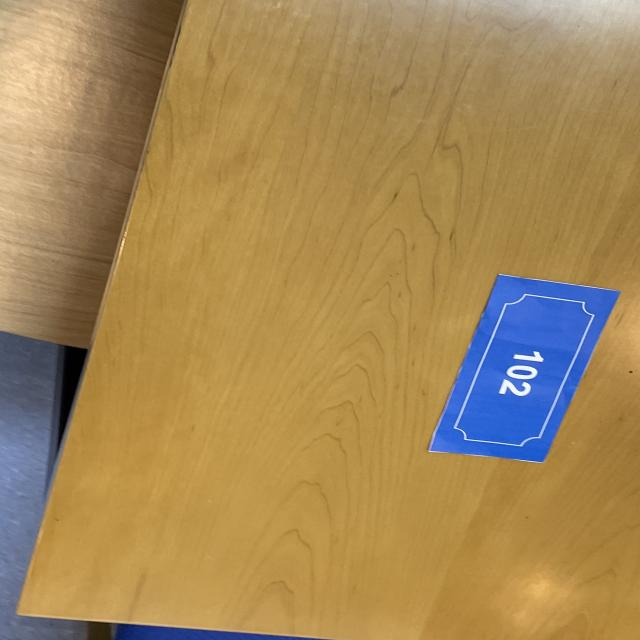Card: (396, 236, 634, 520)
